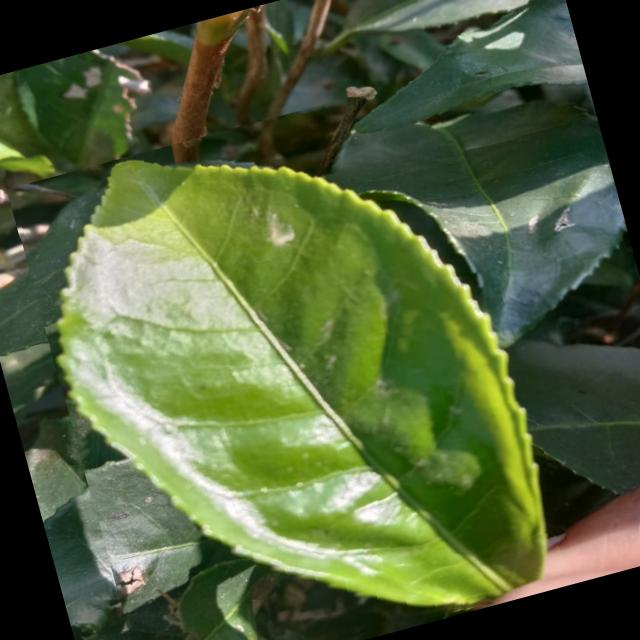Category B(2-4 days): (6, 72, 578, 640)
